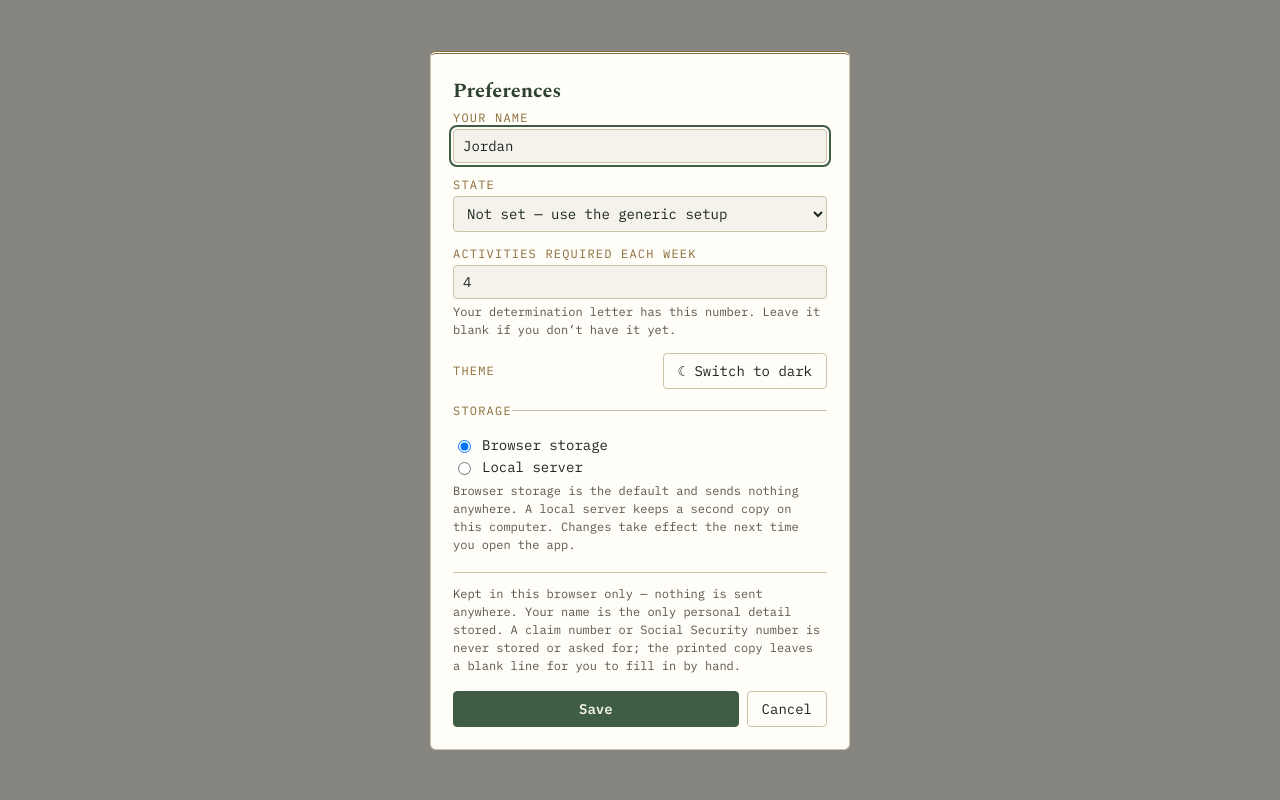
Scenario: PreferencesDialog › storage section › keeps the dialog open and saves nothing while a server can not be turned on
The image size is (1280, 800).
Replace the text in the field labelled "Your name" with "Someone Else": (640, 146) [453,128,827,162]
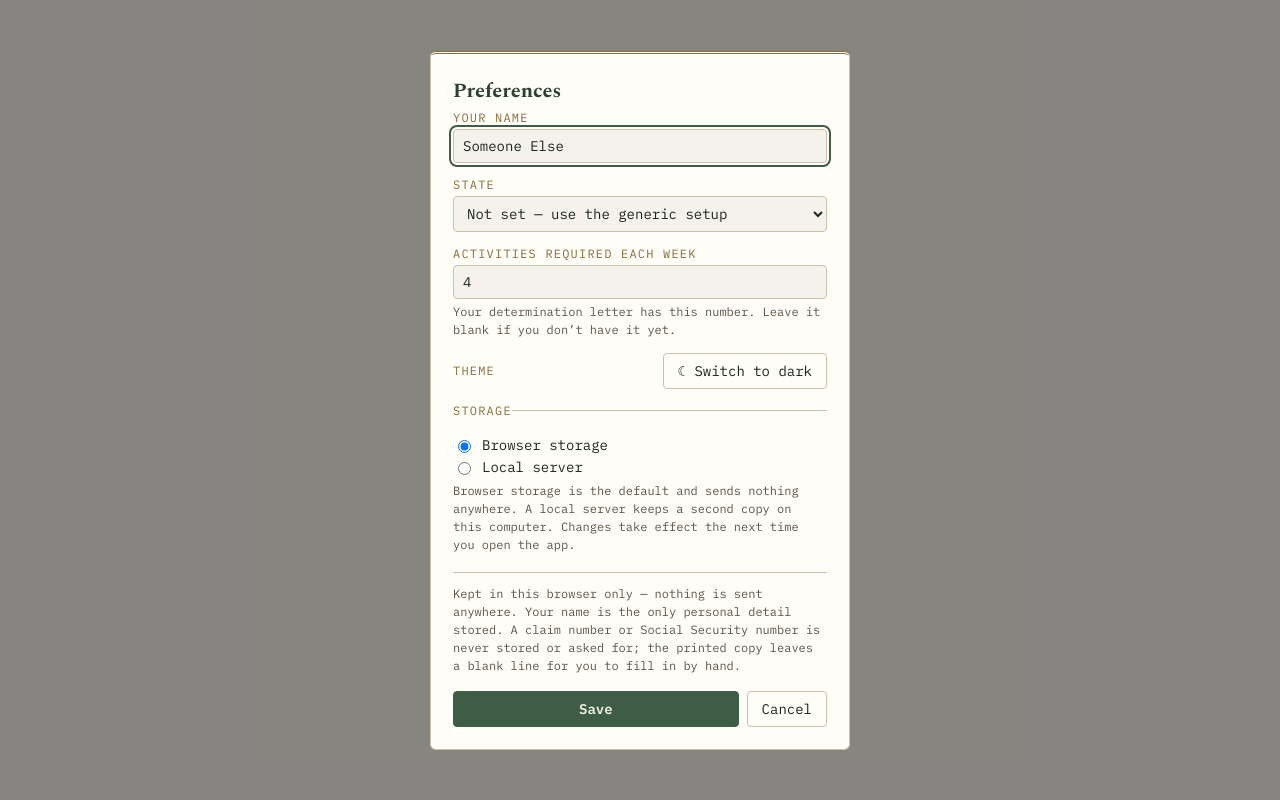
Click the radio button labelled "Local server": (464, 468) [458,462,471,474]
(page scrolled)
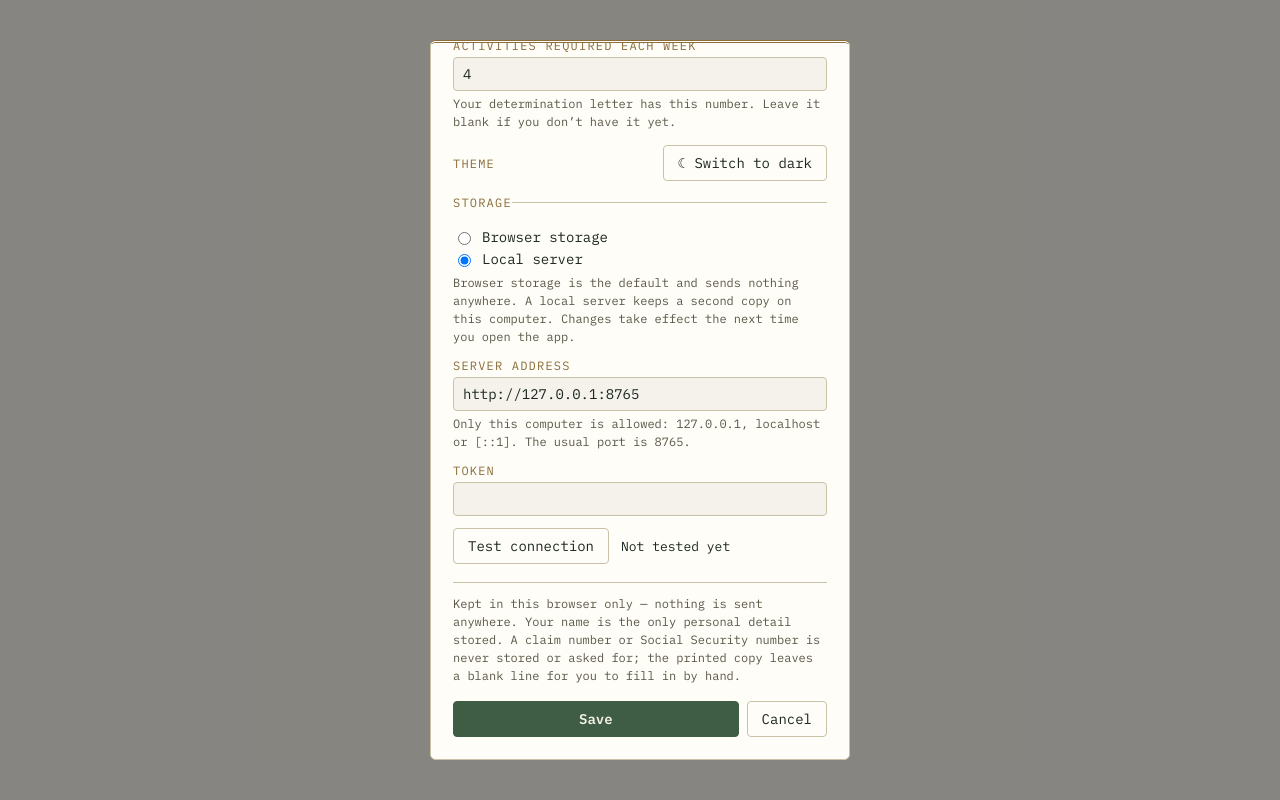
Click the button "Save": (596, 719) [453,701,739,737]
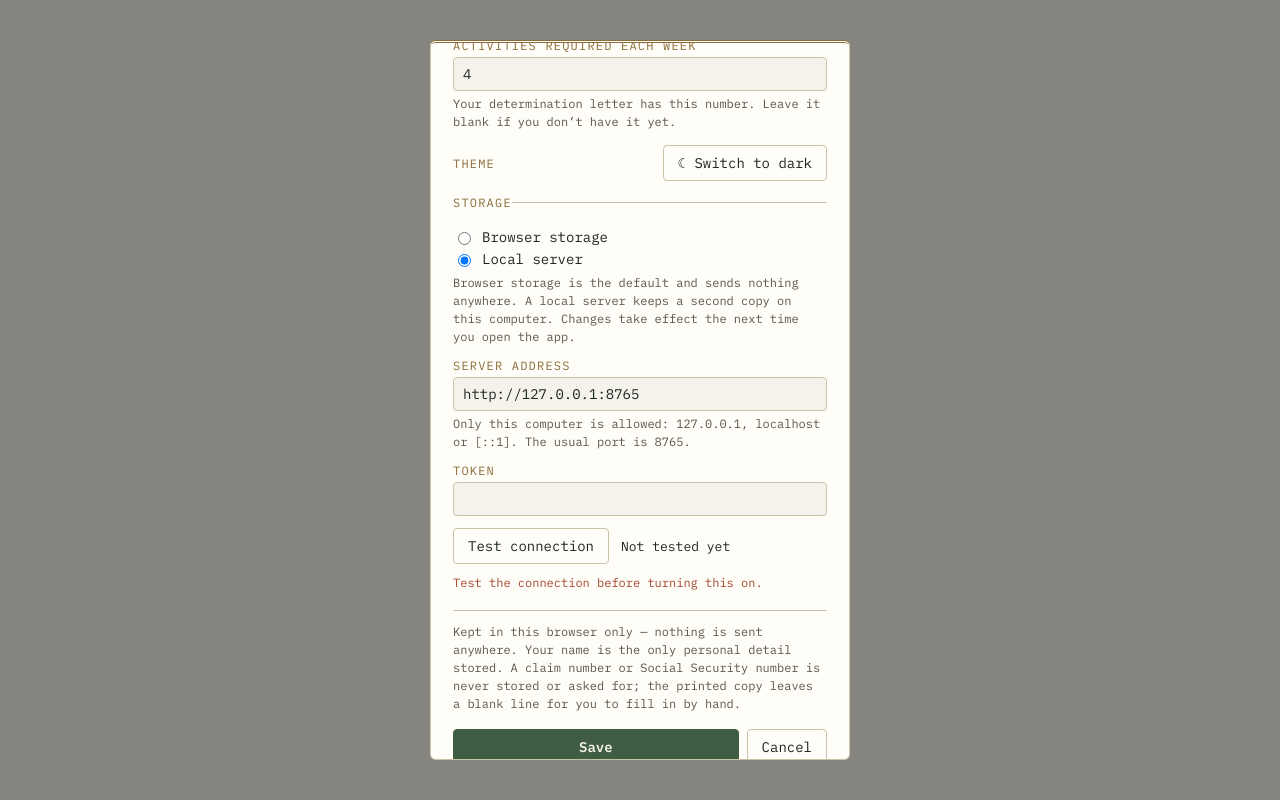
Check: the message with test id "storage-error" shows "Test the connection", box [453,575,763,590]
